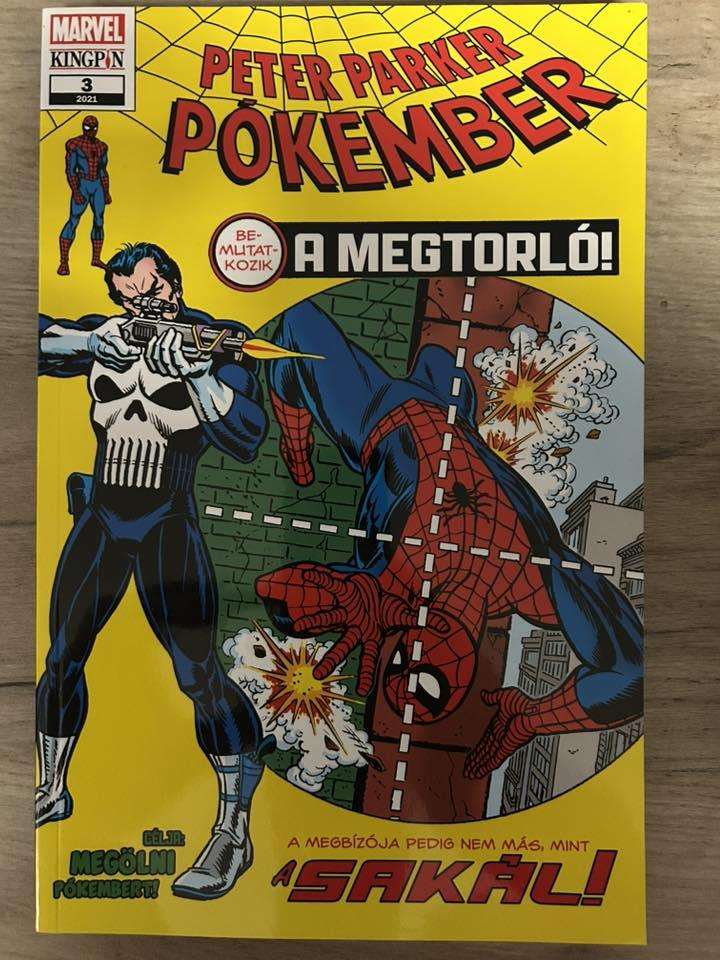comic: (35, 0, 648, 942)
